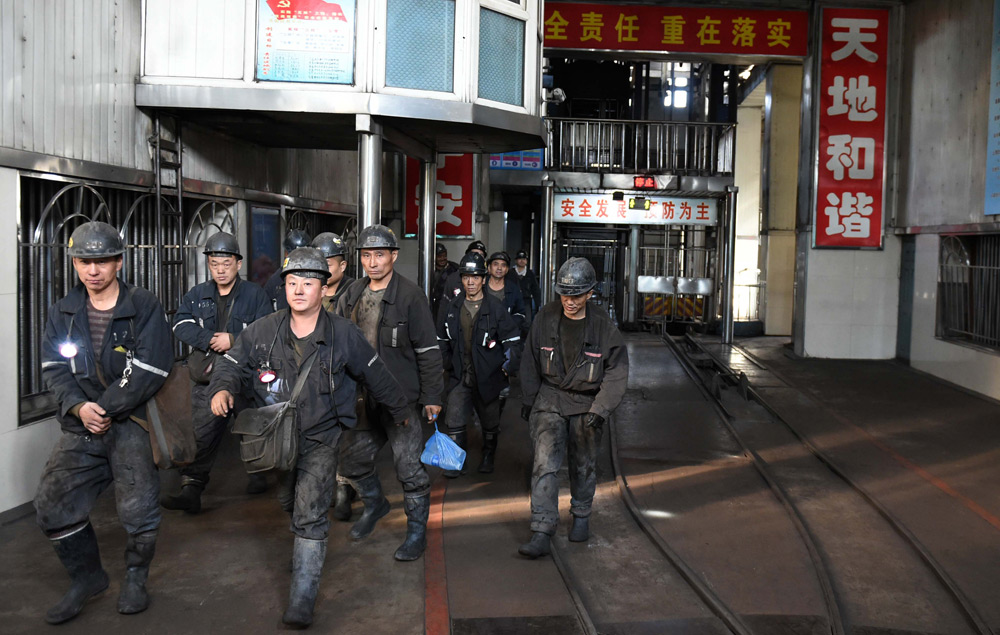helmet: (54, 222, 135, 291), (186, 224, 250, 285), (349, 225, 408, 285), (551, 247, 604, 309), (277, 246, 324, 308), (455, 252, 489, 298)
